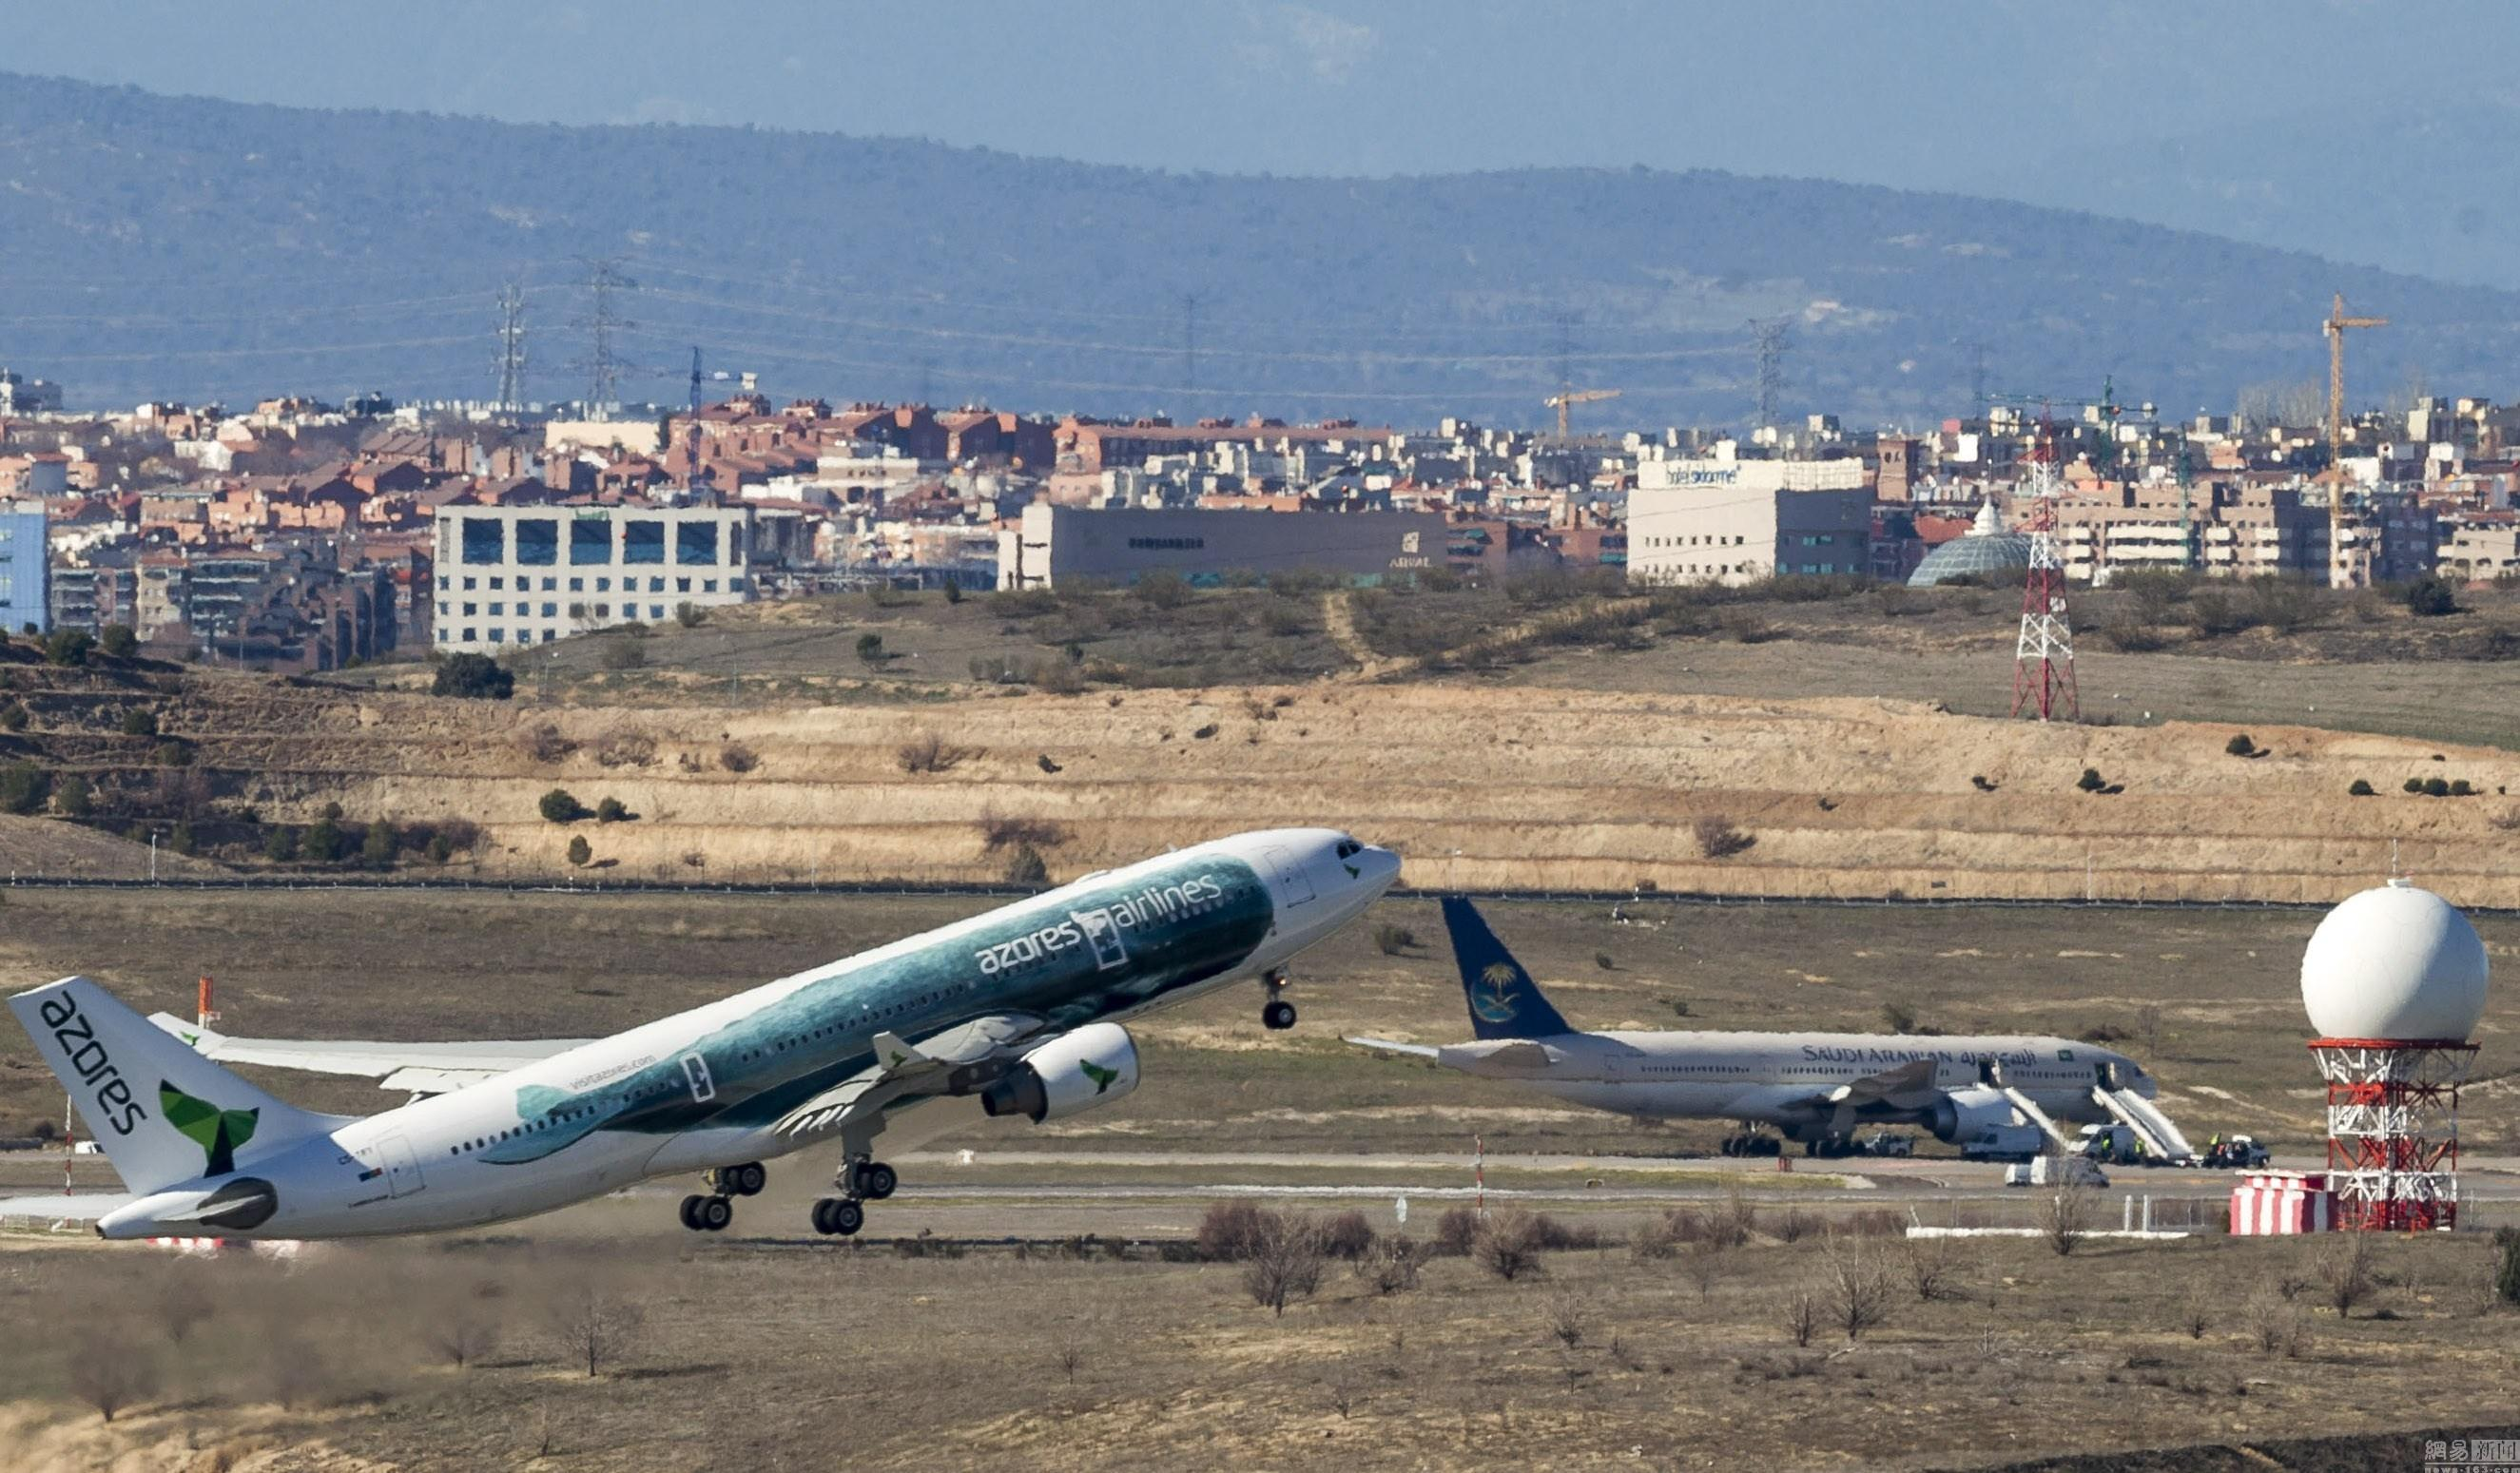airplane: (19, 759, 1391, 1284), (1412, 870, 2273, 1185)
